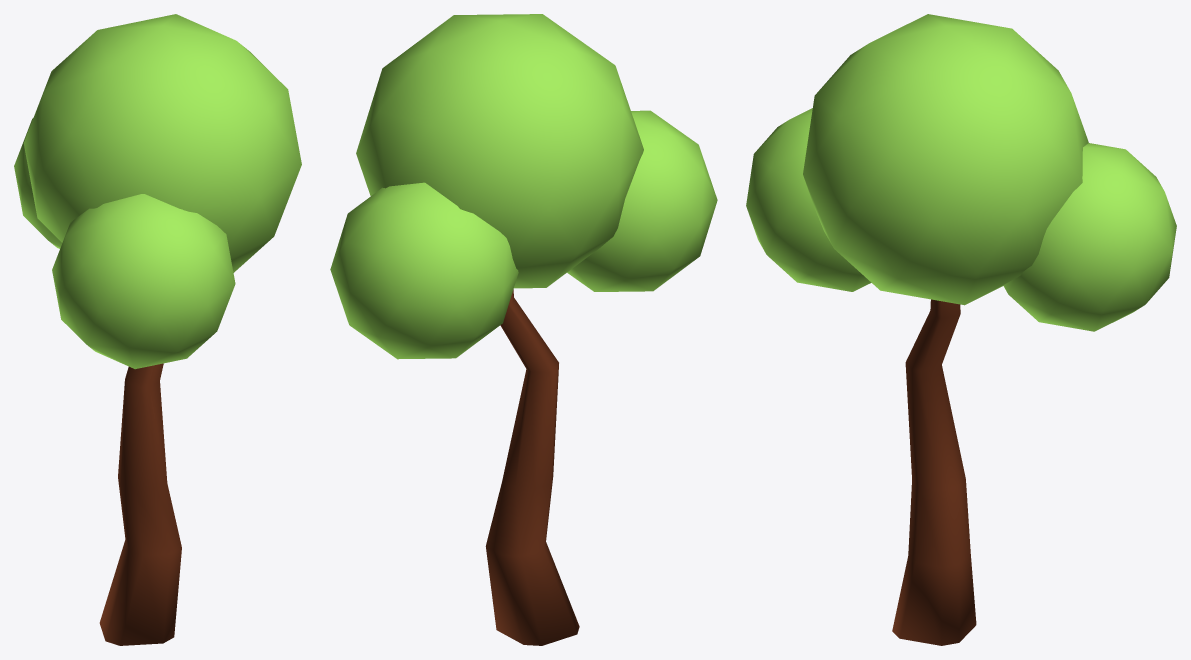
Rendered from xrhack_tree.fbx.
The picture shows the model from 3 angles, left to right: view 1: azimuth 30°, elevation 25°; view 2: azimuth 150°, elevation 25°; view 3: azimuth 270°, elevation 25°; orthographic projection. The views are drawn at different scales.
Visible parts, largest first — view 1: Icosphere.011; view 2: Icosphere.011; view 3: Icosphere.011.
Part boxes in pixels (bbox=[...]): Icosphere.011: bbox=[14, 14, 301, 645]; Icosphere.011: bbox=[330, 14, 717, 645]; Icosphere.011: bbox=[746, 14, 1176, 645].
Bounding box in the file's own units: 85.8 × 178 × 113.
